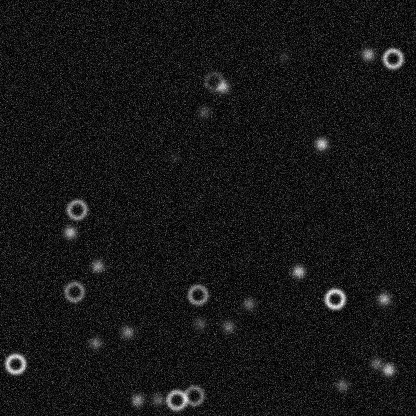Ring: (185, 282, 209, 306), (181, 383, 205, 407), (380, 46, 404, 70), (322, 286, 346, 310), (64, 197, 88, 221), (164, 387, 188, 411), (202, 69, 226, 93), (62, 279, 86, 303), (3, 351, 27, 375)
Spot: (380, 361, 396, 377), (165, 150, 181, 166), (214, 78, 230, 94), (375, 290, 391, 306), (334, 377, 350, 393), (129, 391, 145, 407), (89, 257, 105, 273), (359, 46, 375, 62), (368, 355, 384, 371), (61, 224, 77, 240), (240, 295, 256, 311), (276, 48, 292, 64), (87, 334, 103, 350), (195, 104, 211, 120), (149, 391, 165, 407), (119, 324, 135, 340), (313, 135, 329, 151), (290, 263, 306, 279), (220, 318, 236, 334), (192, 315, 208, 331)
